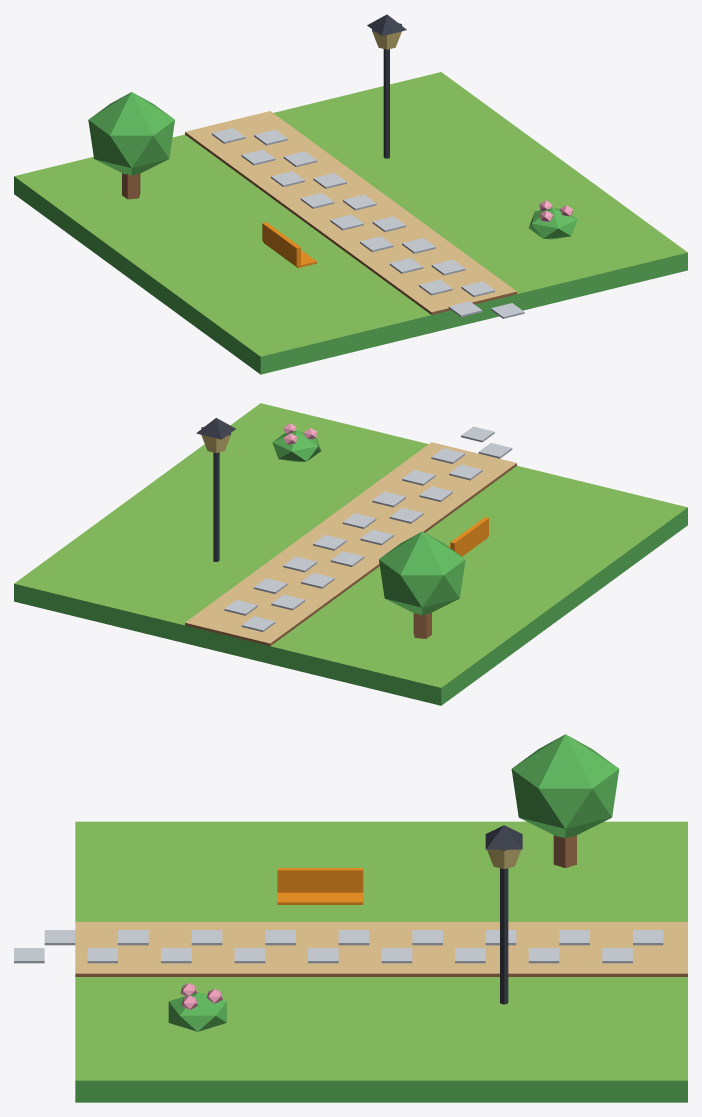
Rendered from path_straight.glb.
The picture shows the model from 3 angles, top to bottom: view 1: azimuth 30°, elevation 25°; view 2: azimuth 150°, elevation 25°; view 3: azimuth 270°, elevation 25°; orthographic projection. The views are drawn at different scales.
Parts seen in each view (by area): view 1: path_straight; view 2: path_straight; view 3: path_straight.
Part boxes in pixels (x1=…): path_straight: x1=14, y1=14, x2=687, y2=374; path_straight: x1=14, y1=403, x2=687, y2=705; path_straight: x1=14, y1=734, x2=687, y2=1102.
Size of the model in its own units: 1 by 0.36 by 1.1.
